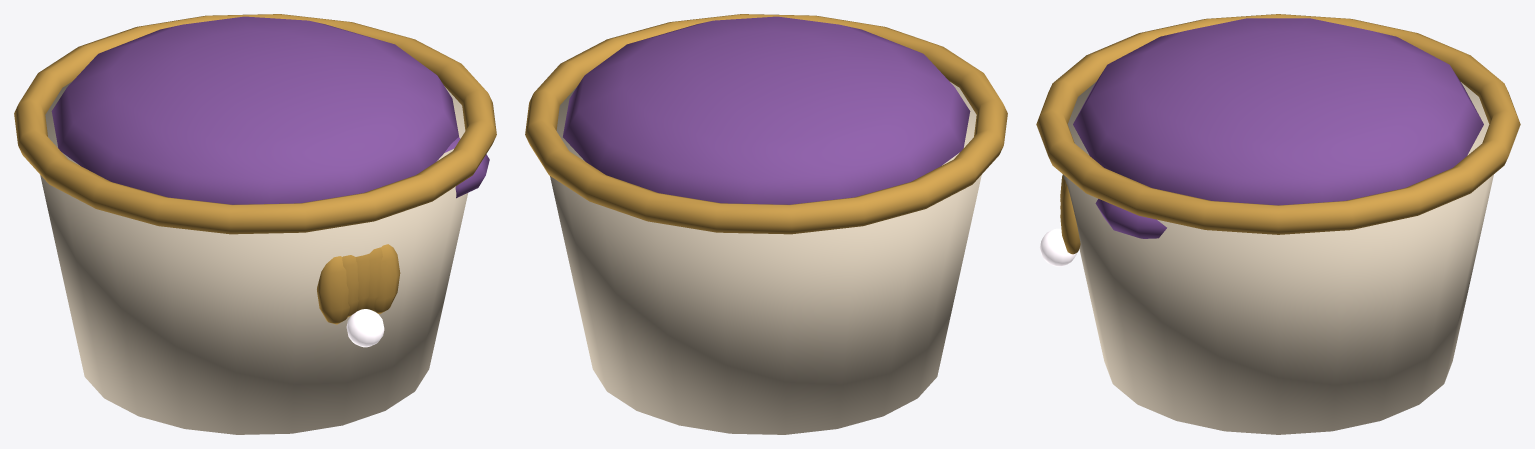
File: opera_painter_pot_2.glb
The picture shows the model from 3 angles, left to right: view 1: azimuth 30°, elevation 25°; view 2: azimuth 150°, elevation 25°; view 3: azimuth 270°, elevation 25°; orthographic projection.
Parts seen in each view (by area): view 1: VisualMesh.002; view 2: VisualMesh.002; view 3: VisualMesh.002.
Boxes of the visible parts, box(x1,y1,x2,y2) form: VisualMesh.002: box(14, 14, 496, 434); VisualMesh.002: box(525, 14, 1007, 434); VisualMesh.002: box(1036, 14, 1520, 434).
Size of the model in its own units: 2.78 by 1.91 by 2.78.
